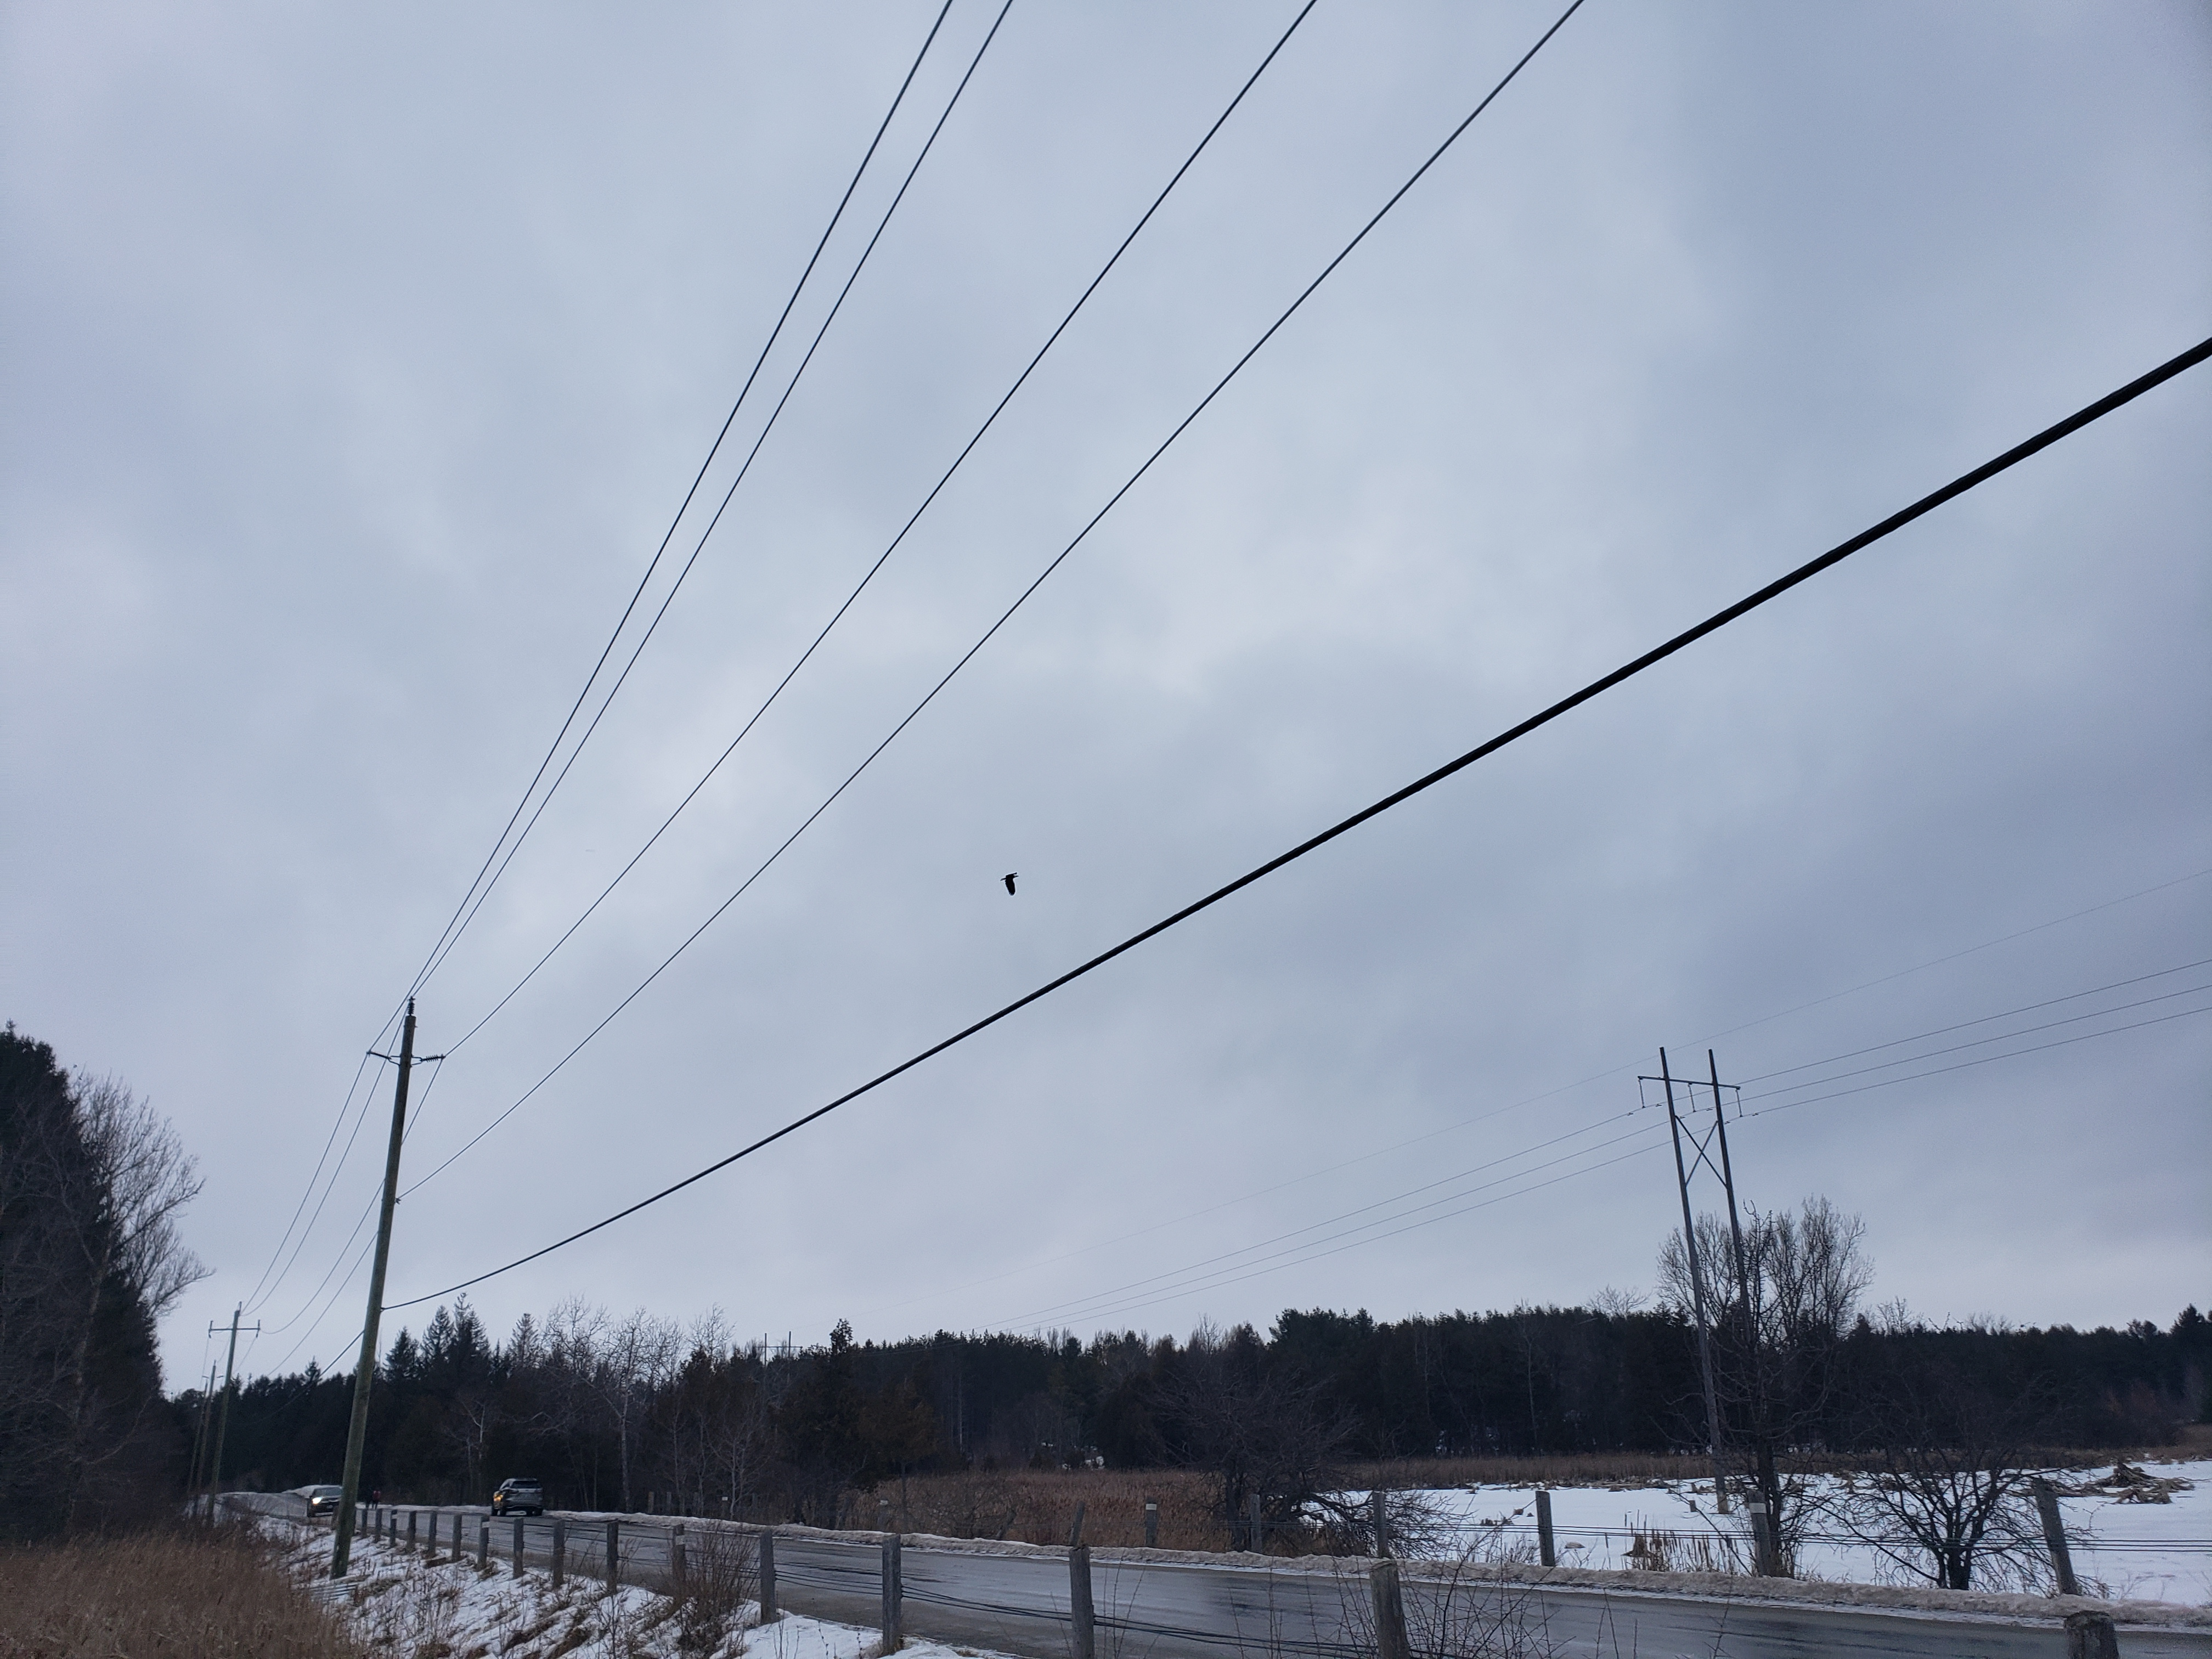goose: (998, 870, 1022, 896)
